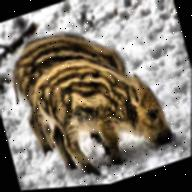boar: (30, 37, 180, 187), (4, 3, 144, 157)
